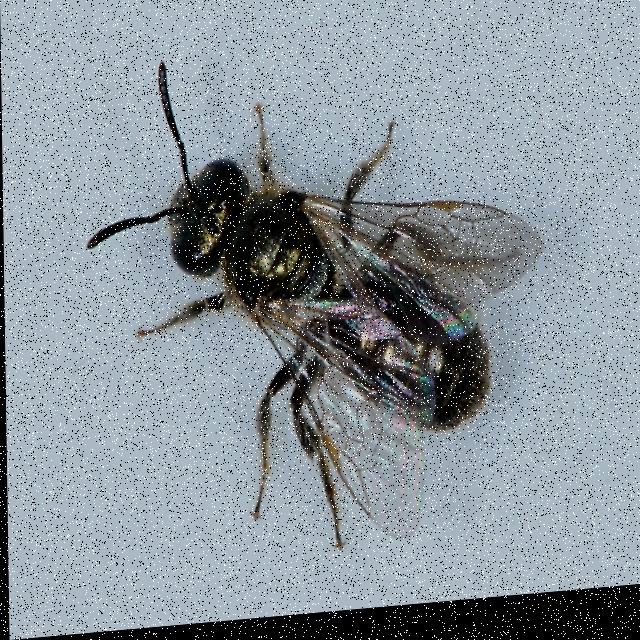Braunsapis: (70, 25, 546, 578)
